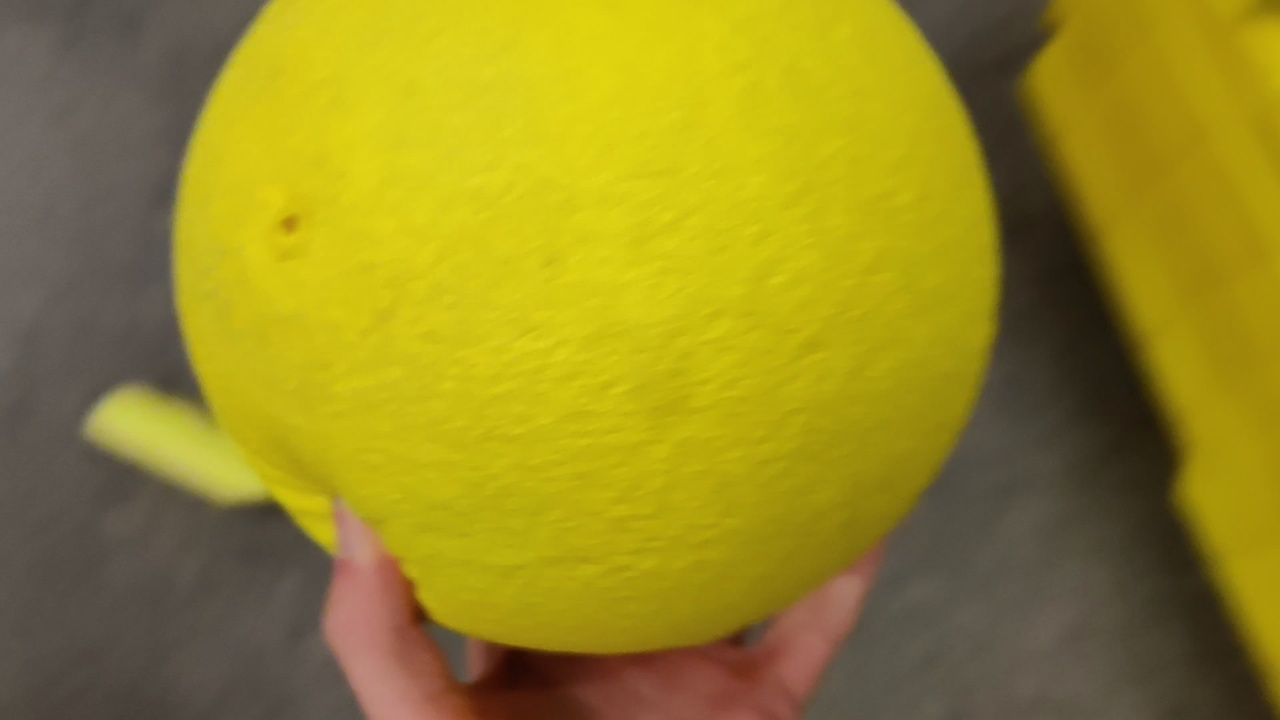Ball: (170, 3, 1008, 646)
